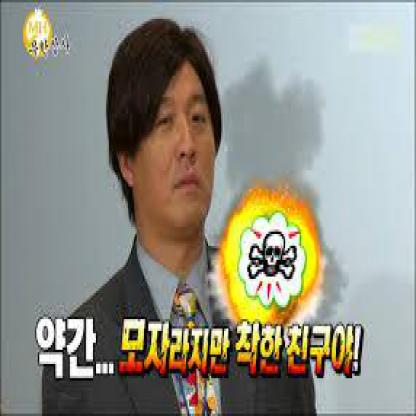skull: (245, 226, 297, 282)
